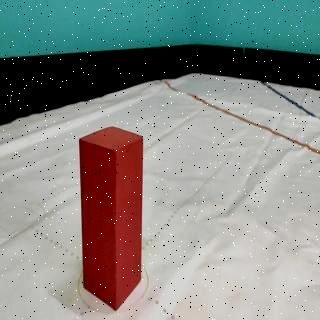redbox: (78, 124, 145, 311)
